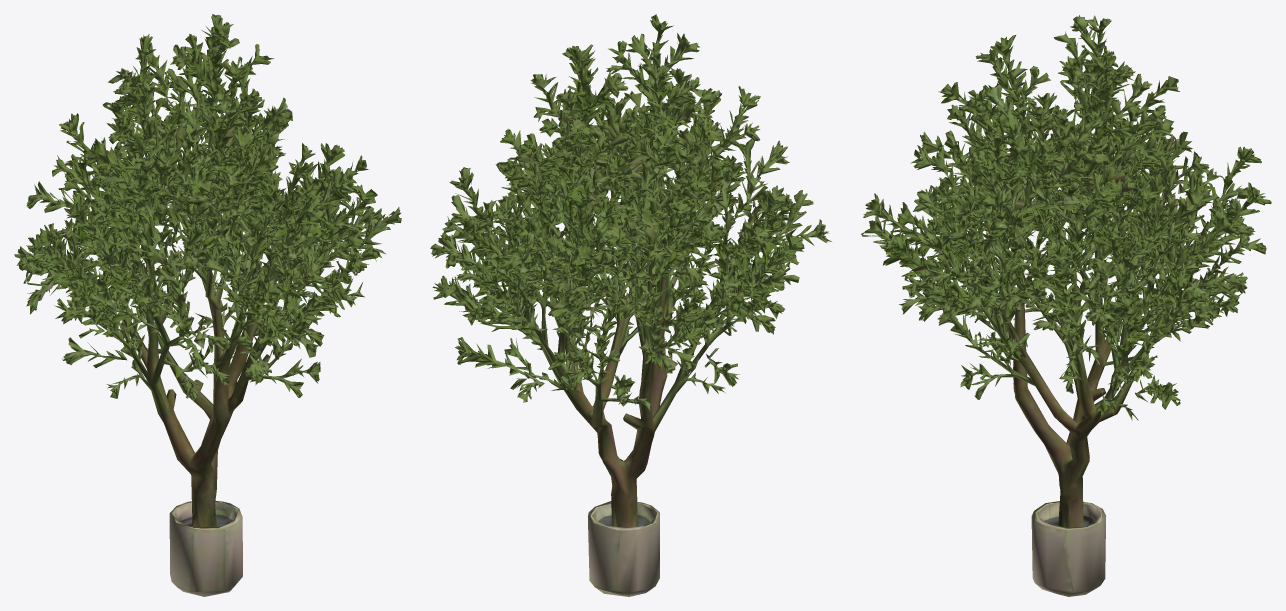
The model's file is fm_olive_tree.glb.
3 views of the same model, side by side, from view 1: azimuth 30°, elevation 25°; view 2: azimuth 150°, elevation 25°; view 3: azimuth 270°, elevation 25° (orthographic).
Visible parts, largest first — view 1: geometry_0; view 2: geometry_0; view 3: geometry_0.
Part boxes in pixels (x1,y1,x2,y2): geometry_0: (14,14,401,596); geometry_0: (430,14,831,596); geometry_0: (861,15,1271,596).
Bounding box in the file's own units: 0.6398 × 0.9984 × 0.6789.
1 material, 1 textured.
